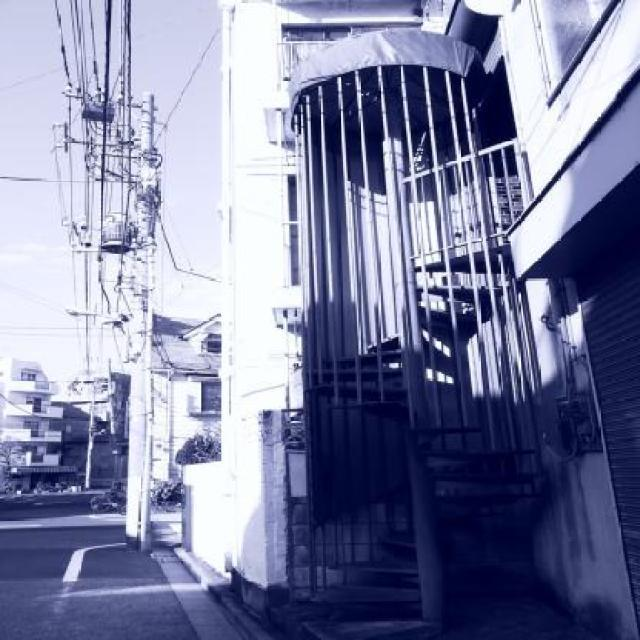stair: (290, 231, 530, 640)
